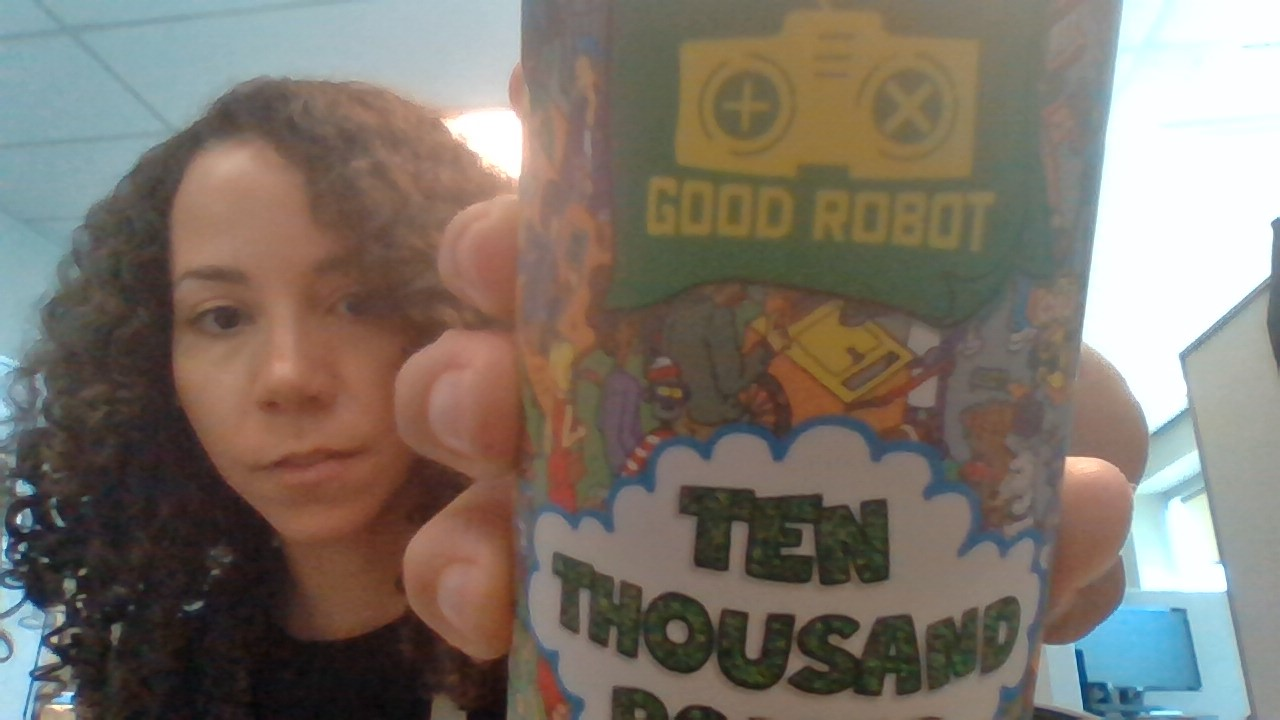Good Robot: (663, 1, 989, 194)
